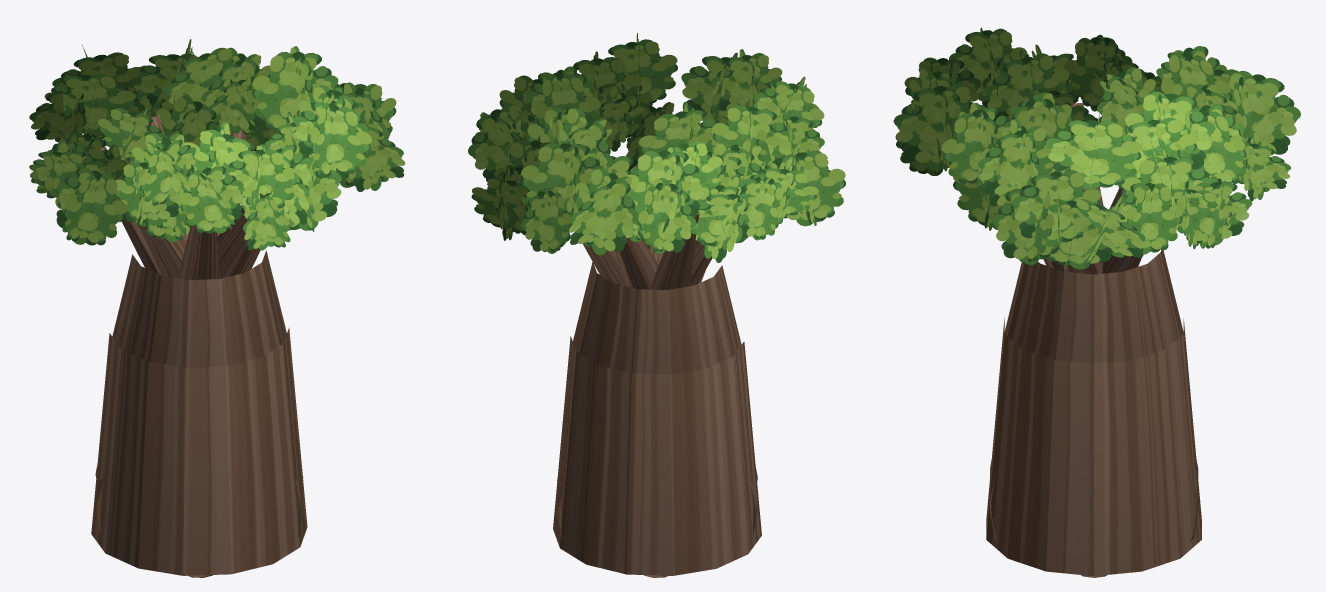
Rendered from anime_baobab.glb.
3 views of the same model, side by side, from view 1: azimuth 30°, elevation 25°; view 2: azimuth 150°, elevation 25°; view 3: azimuth 270°, elevation 25° (orthographic). The views are drawn at different scales.
Parts seen in each view (by area): view 1: anime_baobab; view 2: anime_baobab; view 3: anime_baobab.
Boxes of the visible parts, <box> form: anime_baobab: <box>29,39,405,577</box>; anime_baobab: <box>468,33,845,577</box>; anime_baobab: <box>893,27,1300,577</box>.
Size of the model in its own units: 5.79 by 6.95 by 5.46.
2 materials, 2 textured.
